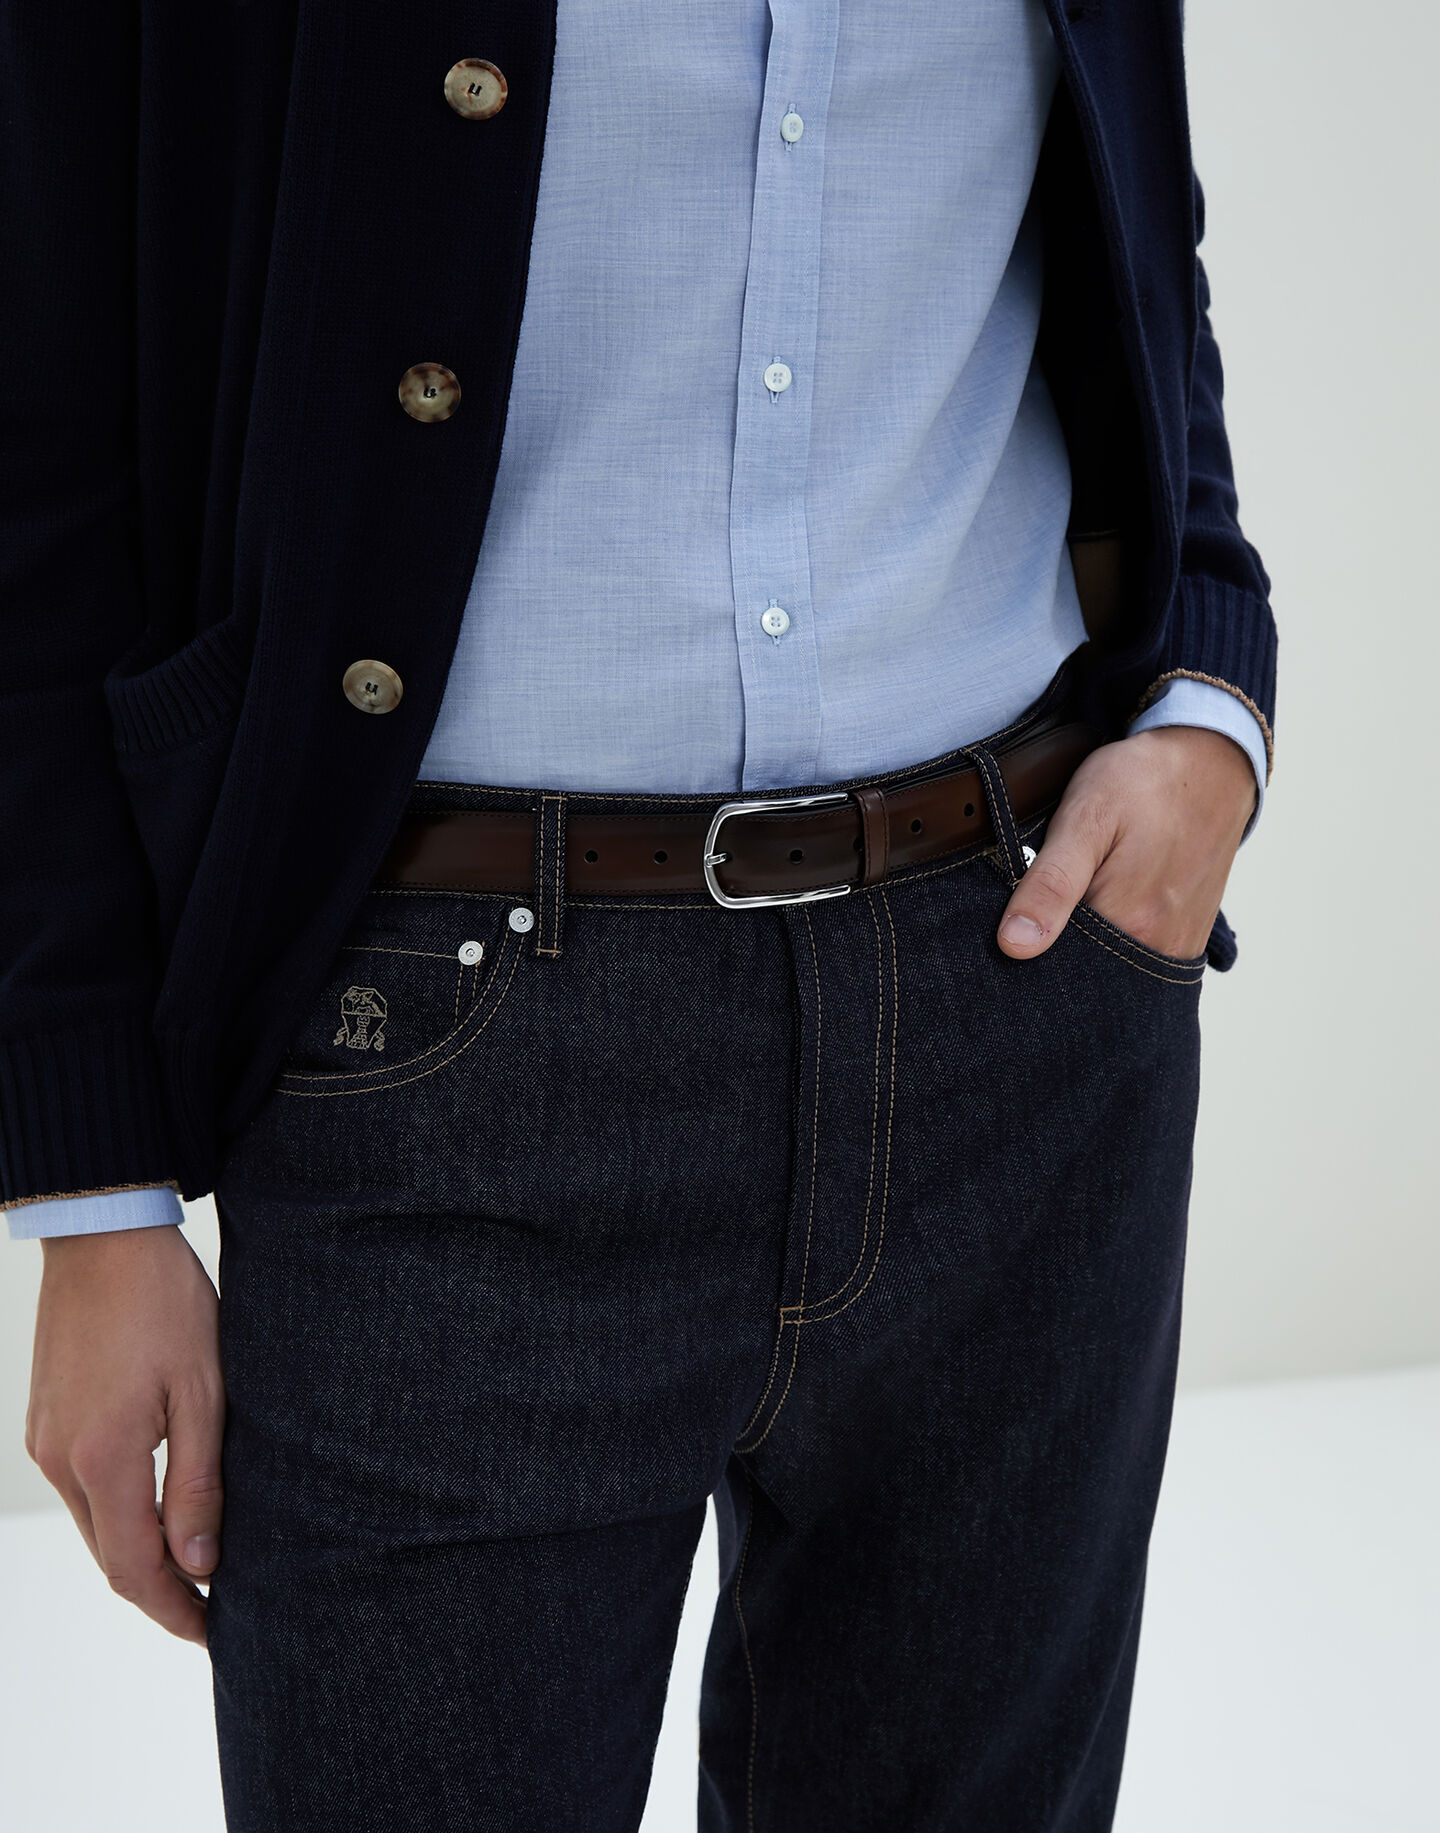C_jeans: (219, 832, 1168, 1832)
F_belt: (361, 732, 1080, 979)
